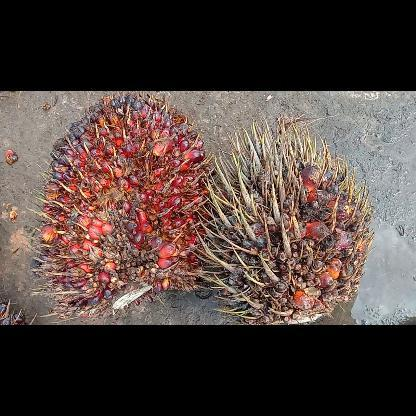TBS abnormal: (202, 114, 374, 324)
TBS masak: (22, 90, 214, 324)
